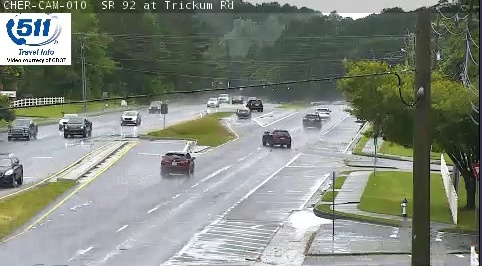car: (160, 152, 194, 173), (303, 113, 321, 129), (315, 108, 330, 120)
